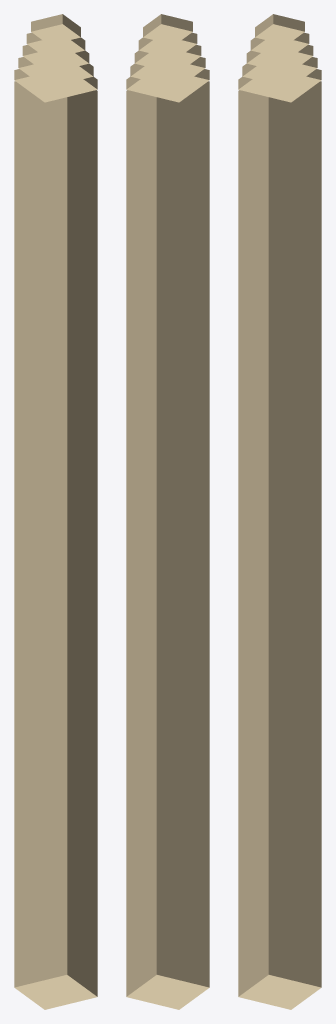
File: 888-brickell.glb
3 views of the same model, side by side, from view 1: azimuth 30°, elevation 25°; view 2: azimuth 150°, elevation 25°; view 3: azimuth 330°, elevation 25° (orthographic).
Size of the model in its own units: 22 by 384 by 22.
